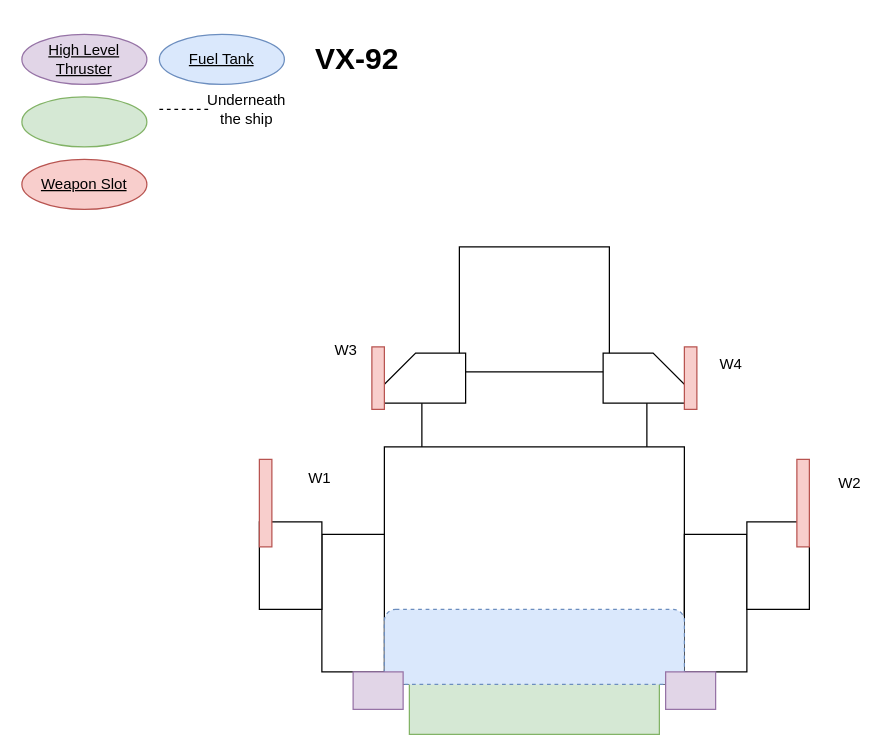
This 890x756 diagram has some shape labels left out. Each missing label, with the centre of its shape:
"Low Level Thruster" belongs at point (84, 121).
"X4 Low Level Thrusters" belongs at point (533, 696).
